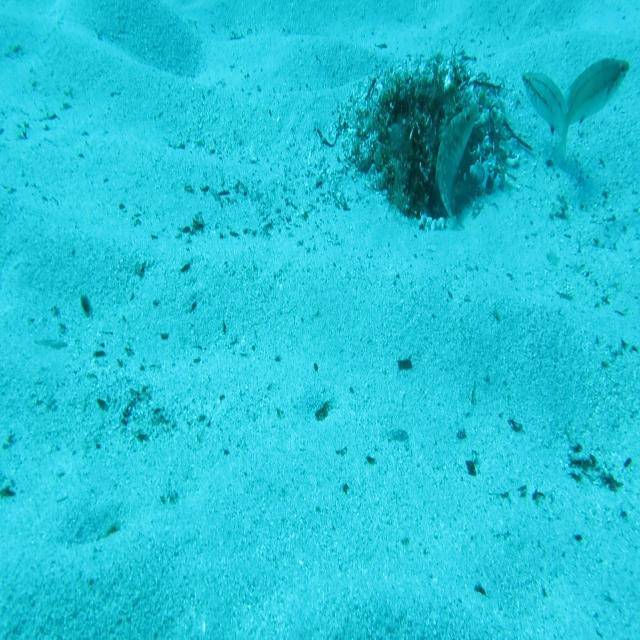LF: (434, 102, 480, 230)
core_nest: (402, 95, 451, 128)
female: (560, 56, 630, 156), (522, 70, 564, 170)
nest: (345, 50, 522, 236)
